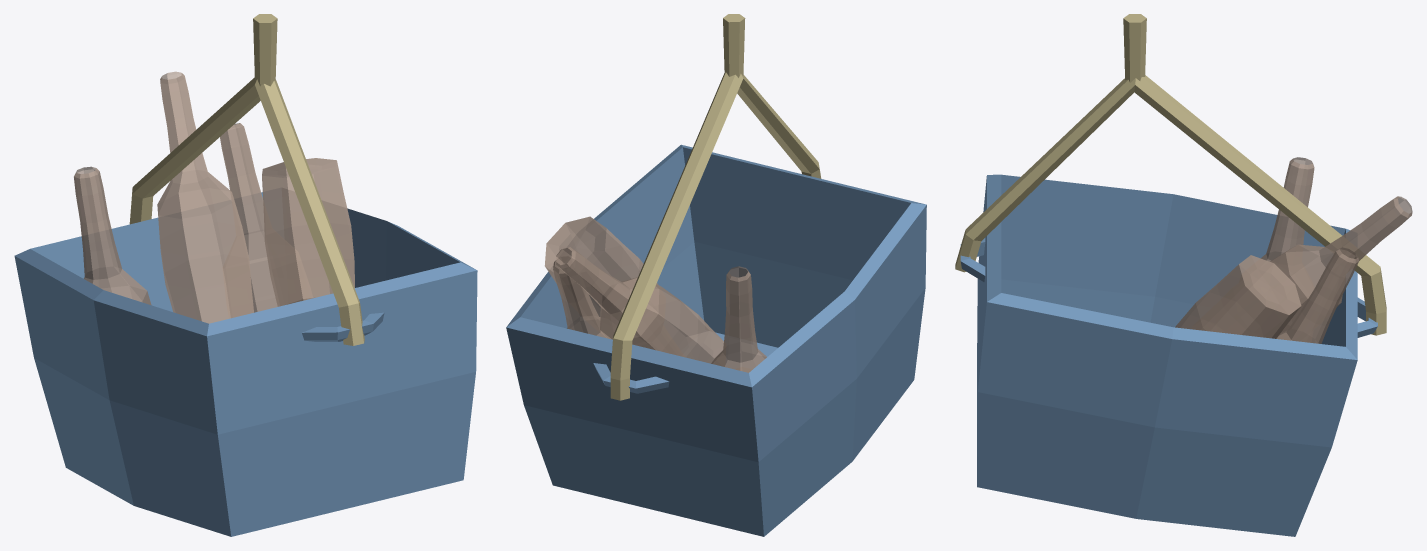
The model's file is noiseAlarm.fbx.
The picture shows the model from 3 angles, left to right: view 1: azimuth 30°, elevation 25°; view 2: azimuth 150°, elevation 25°; view 3: azimuth 270°, elevation 25°; orthographic projection. The views are drawn at different scales.
Visible parts, largest first — view 1: bin, bottle4, rope1, bottle5, bottle, bottle2, rope, handle1; view 2: bin, rope1, bottle4, bottle5, bottle2, bottle, rope, handle; view 3: bin, rope1, bottle5, bottle4, bottle, bottle2, rope.
Part boxes in pixels (x1,y1,x2,y2): bin: (14,192,477,536); bottle4: (157,71,253,323); rope1: (129,77,364,345); bottle5: (262,158,354,306); bottle: (220,123,291,312); bottle2: (74,166,151,305); rope: (253,14,277,86); handle1: (302,312,384,341); bin: (506,144,926,536); rope1: (610,72,821,400); bottle4: (556,247,723,363); bottle5: (544,216,657,323); bottle2: (711,266,766,372); bottle: (553,256,607,338); rope: (723,14,745,77); handle: (593,363,669,393); bin: (977,174,1357,536); rope1: (955,75,1386,335); bottle5: (1175,255,1301,338); bottle4: (1270,196,1412,333); bottle: (1276,247,1358,343); bottle2: (1260,157,1314,261); rope: (1123,14,1146,82).
Bounding box in the file's own units: 2.77 × 4.19 × 3.74.
